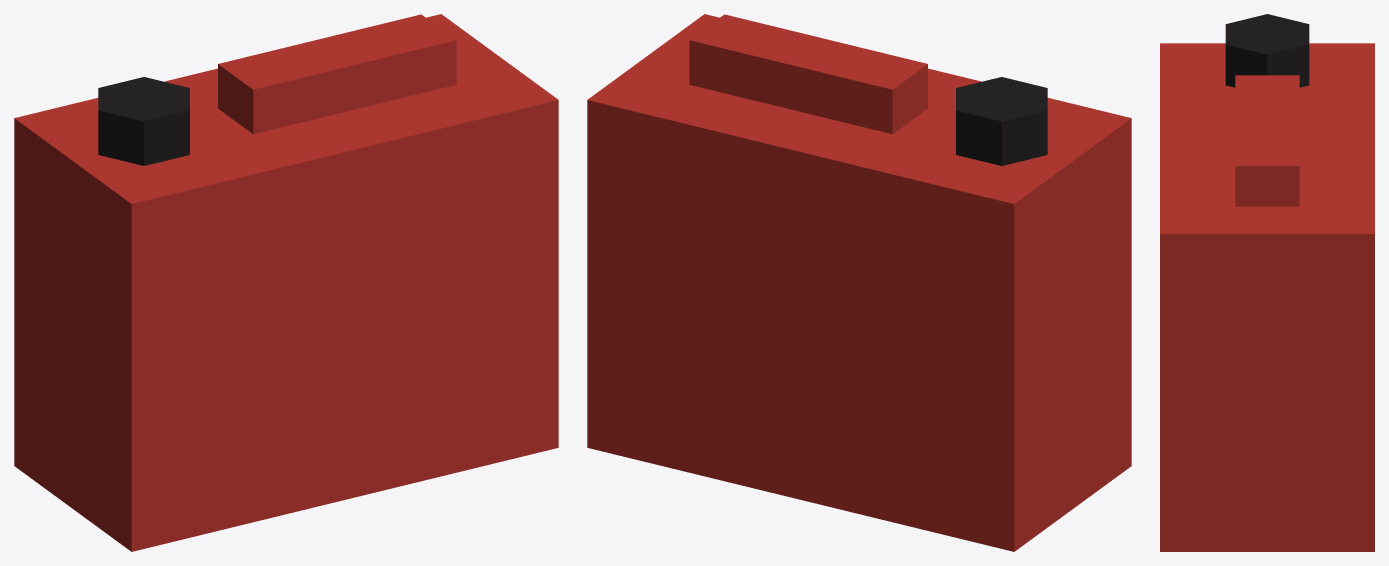
Rendered from item_rm_chemfuel_a.obj.
The picture shows the model from 3 angles, left to right: view 1: azimuth 30°, elevation 25°; view 2: azimuth 150°, elevation 25°; view 3: azimuth 270°, elevation 25°; orthographic projection. The views are drawn at different scales.
Size of the model in its own units: 0.5712 by 0.5016 by 0.272.
